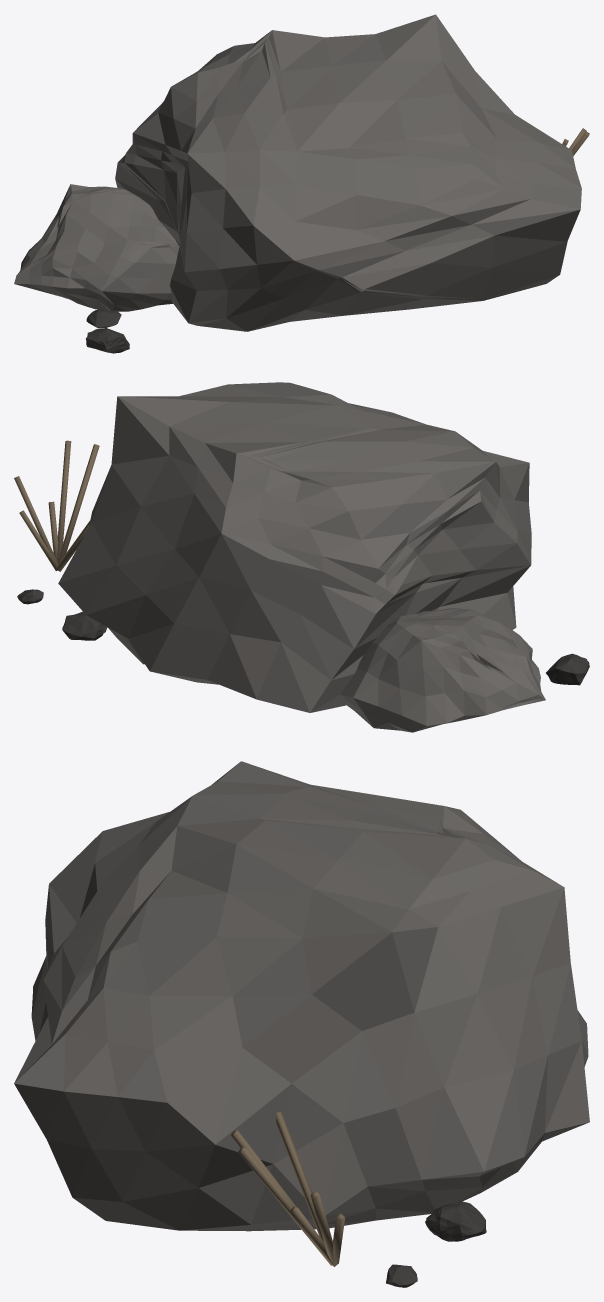
Rendered from cover_rock_17.glb.
The picture shows the model from 3 angles, top to bottom: view 1: azimuth 30°, elevation 25°; view 2: azimuth 150°, elevation 25°; view 3: azimuth 270°, elevation 25°; orthographic projection. The views are drawn at different scales.
Visible parts, largest first — view 1: rock_0, rock_1, grit_2, grit_5; view 2: rock_0, rock_1, grit_2, grit_4, weed_4, weed_1, weed_0; view 3: rock_0, grit_4, weed_2, weed_1.
Boxes of the visible parts, x1,y1,x2,y2 form: rock_0: (115,14,581,331); rock_1: (14,184,179,311); grit_2: (85,328,129,353); grit_5: (86,309,121,327); rock_0: (58,382,531,712); rock_1: (340,608,545,732); grit_2: (546,653,589,685); grit_4: (62,611,107,640); weed_4: (56,444,99,568); weed_1: (56,440,71,569); weed_0: (14,476,57,570); rock_0: (14,761,589,1231); grit_4: (425,1201,486,1241); weed_2: (276,1112,323,1241); weed_1: (238,1147,331,1265).
Size of the model in its own units: 2.34 by 0.8744 by 1.53.
